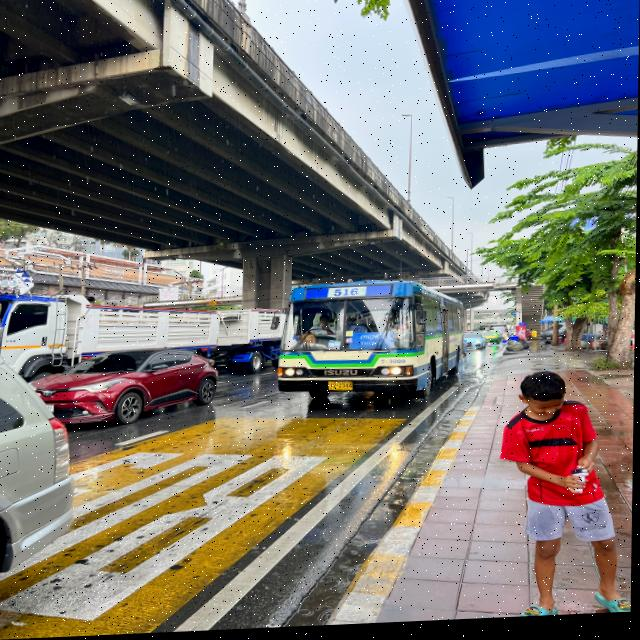BMTA-bus: (277, 280, 470, 412)
Bus-Line-Number: (330, 290, 365, 301)
Destination-Sign-Normal: (352, 335, 397, 353)
